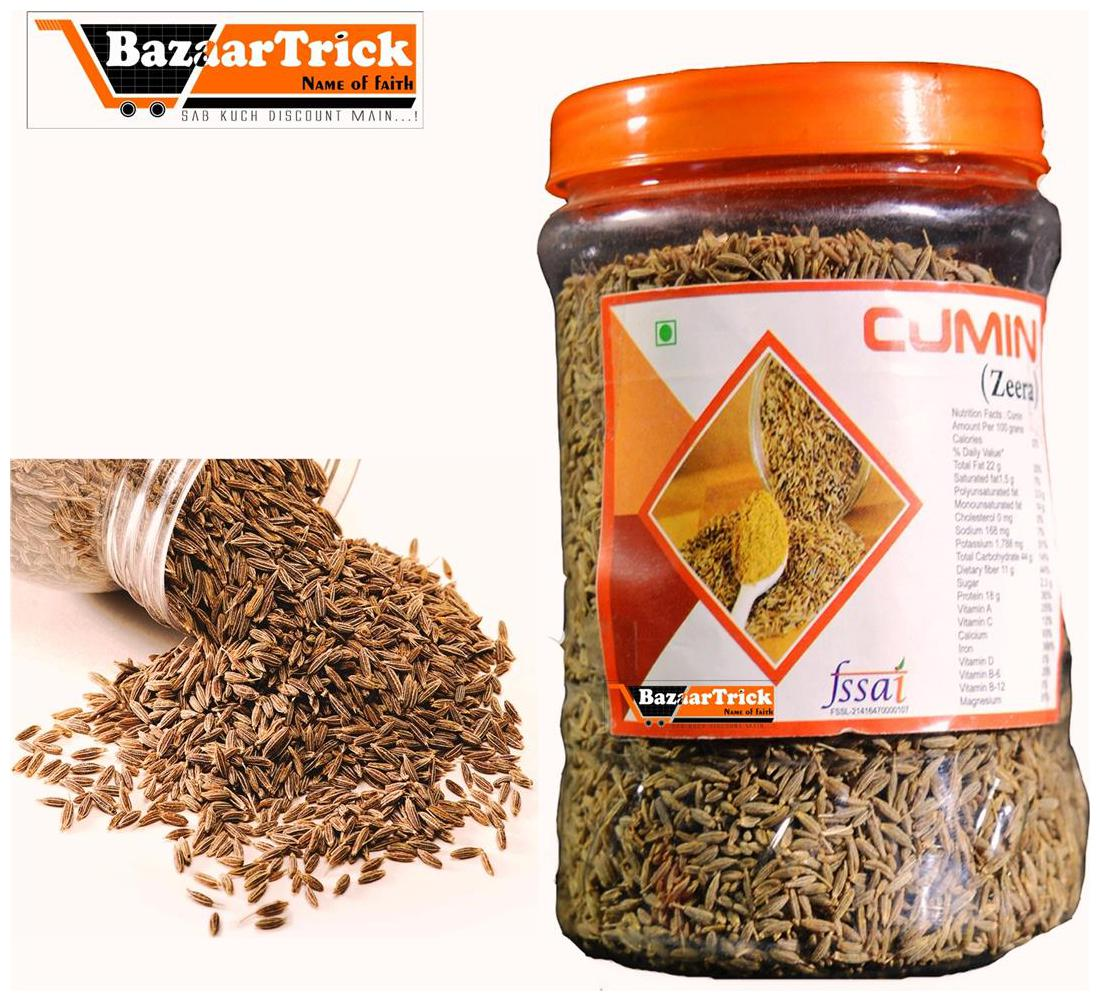fssai: (819, 659, 912, 707)
